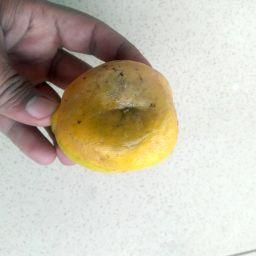orange: (51, 58, 181, 175)
